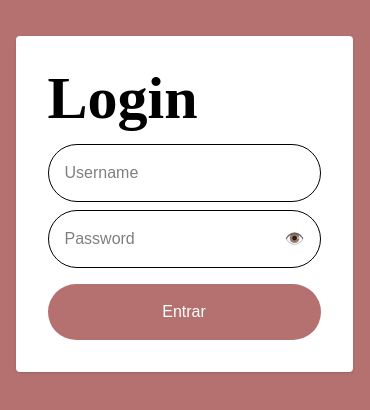
it: Login component › deve exibir erro se o login falhar
This screenshot has width=370, height=410.
Type "italo" into the field with placeholder "Username". click: (184, 173)
box: [48,144,320,202]
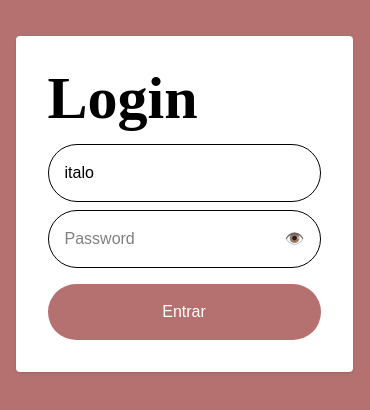
Type "errado" into the password field with placeholder "Password". click: (184, 239)
box: [48,210,320,268]
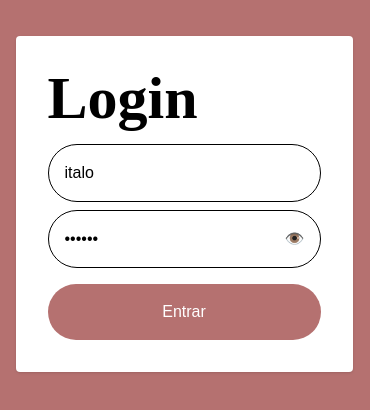
Click the button "Entrar". click: click(184, 312)
box: [48,284,320,340]
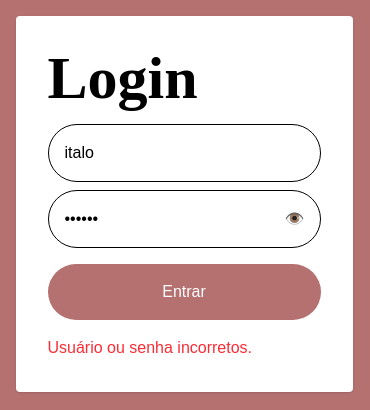
Now the text "Usuário ou senha incorretos." is shown, box [48,339,252,356]
